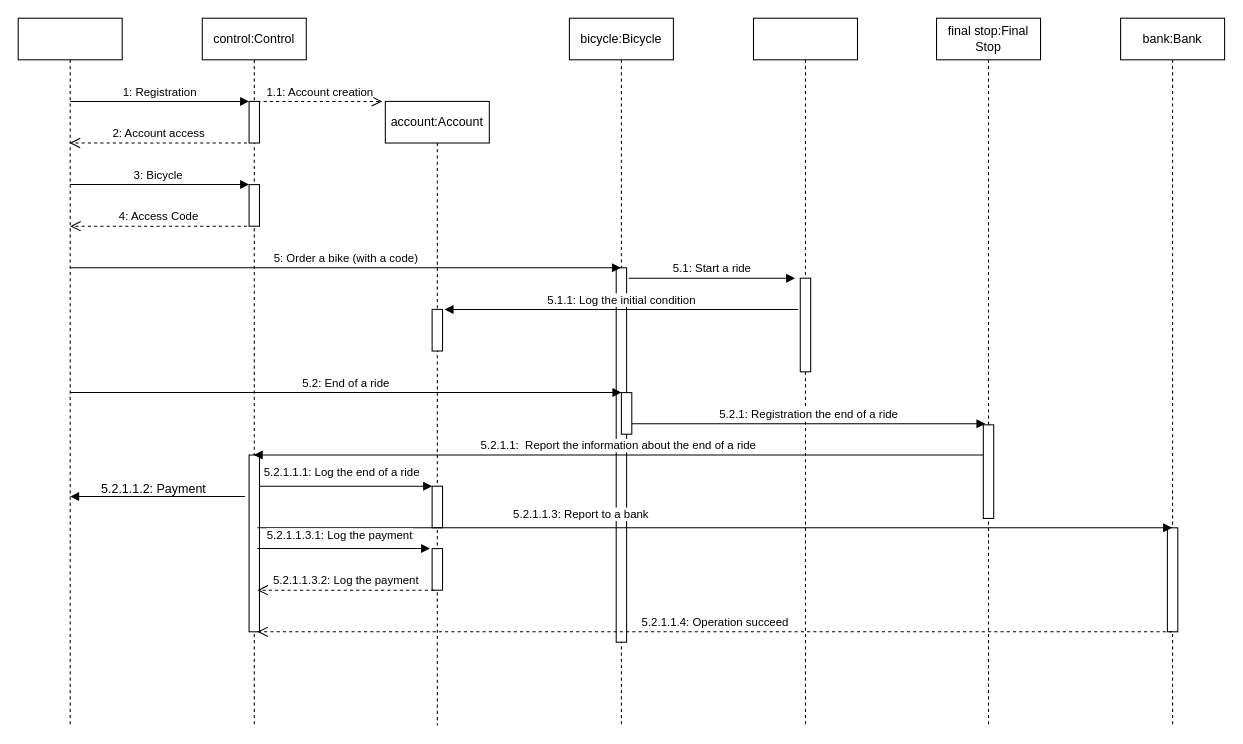
The diagram is 1243 pixels wide and 744 high, and some of its shapes have lost their labels. Here are the shapes that lost their labels. From the top down, the box of each, then its label:
(17, 17, 122, 725): client:Client
(752, 17, 857, 725): initial stop:Initial Stop
